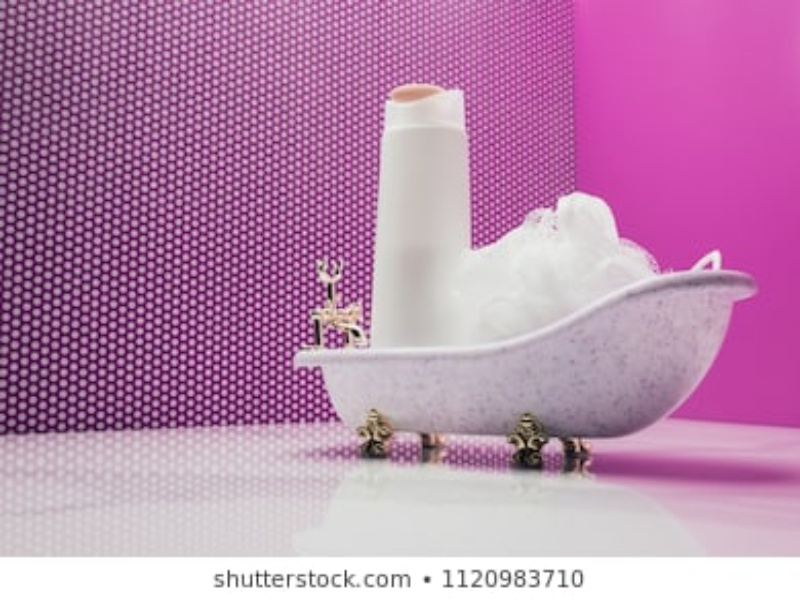shampoo-bottle: (372, 82, 484, 351)
